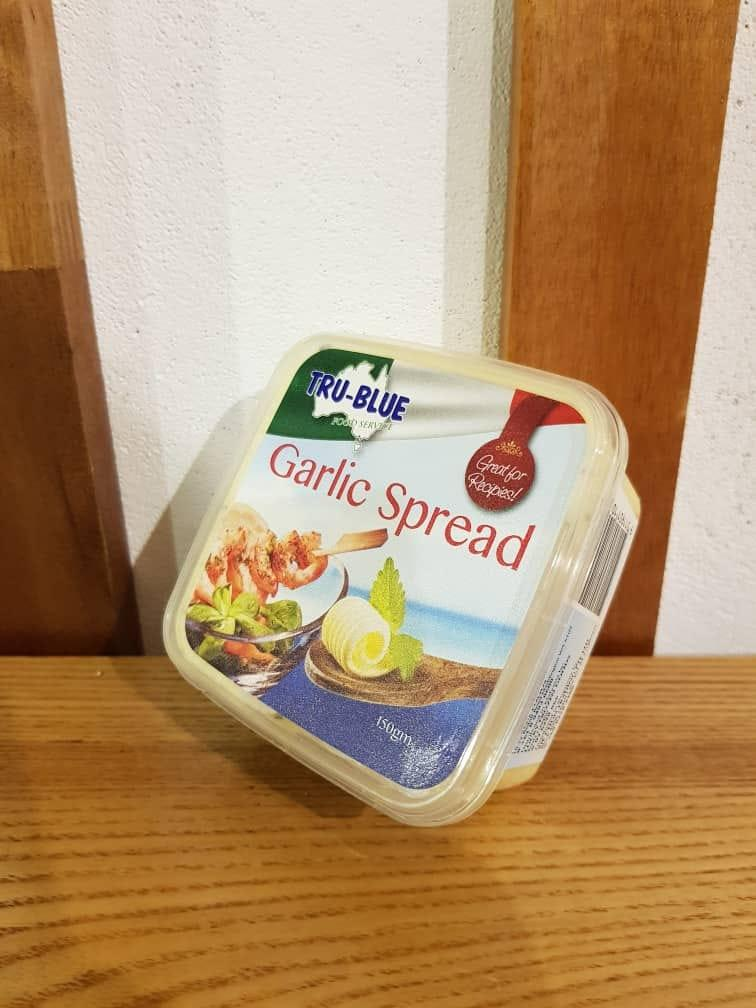plastic: (157, 328, 648, 832)
